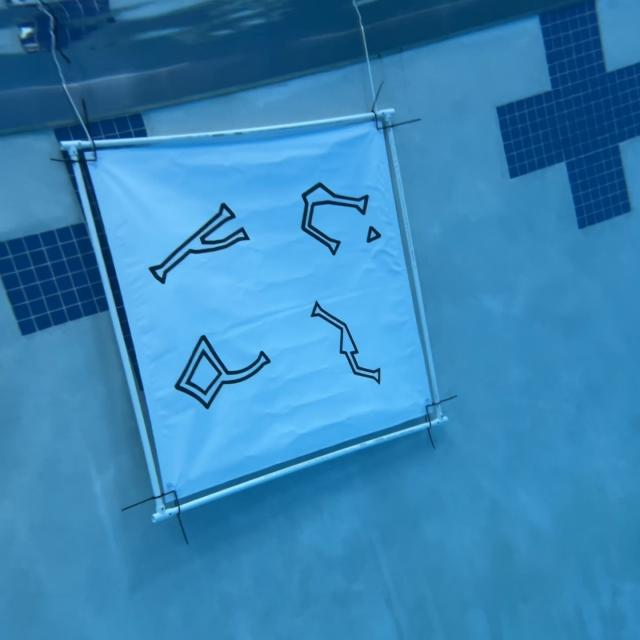buoy: (60, 111, 453, 510)
